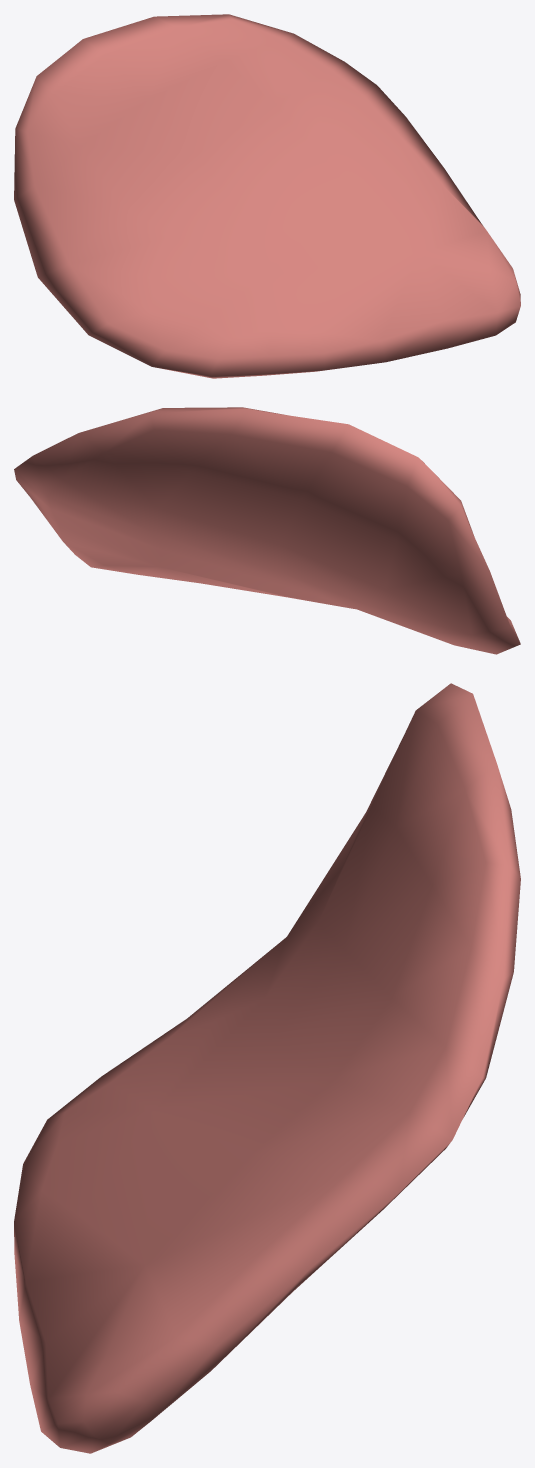
3 views of the same model, one above another, from view 1: azimuth 30°, elevation 25°; view 2: azimuth 150°, elevation 25°; view 3: azimuth 270°, elevation 25° (orthographic). The views are drawn at different scales.
Visible parts, largest first — view 1: ZA_845c493a624f0c05; view 2: ZA_845c493a624f0c05; view 3: ZA_845c493a624f0c05.
Boxes of the visible parts, <box> form: ZA_845c493a624f0c05: <box>14,14,520,378</box>; ZA_845c493a624f0c05: <box>14,407,520,654</box>; ZA_845c493a624f0c05: <box>14,683,520,1453</box>.
Size of the model in its own units: 0.00515 by 0.00325 by 0.00304.
